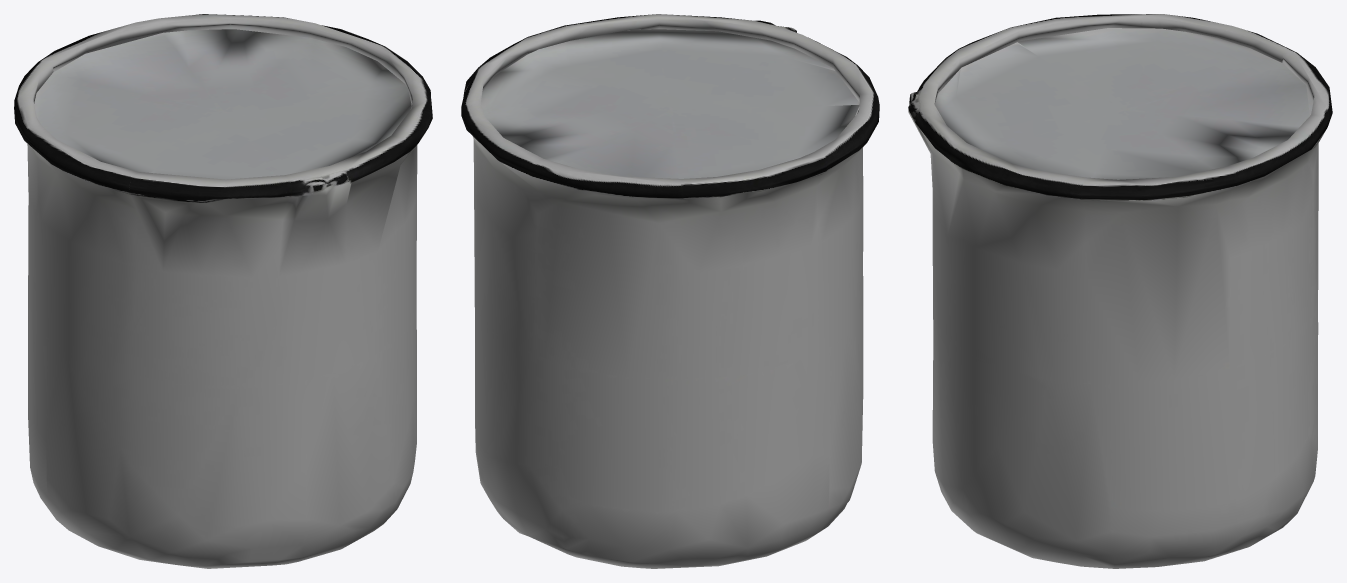
The model's file is beaker.glb.
3 renders of one model, left to right at view 1: azimuth 30°, elevation 25°; view 2: azimuth 150°, elevation 25°; view 3: azimuth 270°, elevation 25°, orthographic.
Parts seen in each view (by area): view 1: tripo_node_78c0455e-011b-43bd-ab1c-e7d796227aed; view 2: tripo_node_78c0455e-011b-43bd-ab1c-e7d796227aed; view 3: tripo_node_78c0455e-011b-43bd-ab1c-e7d796227aed.
Part boxes in pixels (left/top/right/bottom): tripo_node_78c0455e-011b-43bd-ab1c-e7d796227aed: left=14, top=14, right=432, bottom=568; tripo_node_78c0455e-011b-43bd-ab1c-e7d796227aed: left=461, top=14, right=879, bottom=568; tripo_node_78c0455e-011b-43bd-ab1c-e7d796227aed: left=908, top=14, right=1332, bottom=568.
Size of the model in its own units: 0.9336 by 0.9996 by 0.9438.
1 material, 1 textured.
